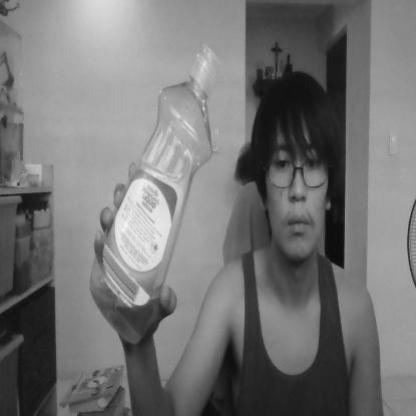Plastic Bottle: (93, 43, 226, 346)
